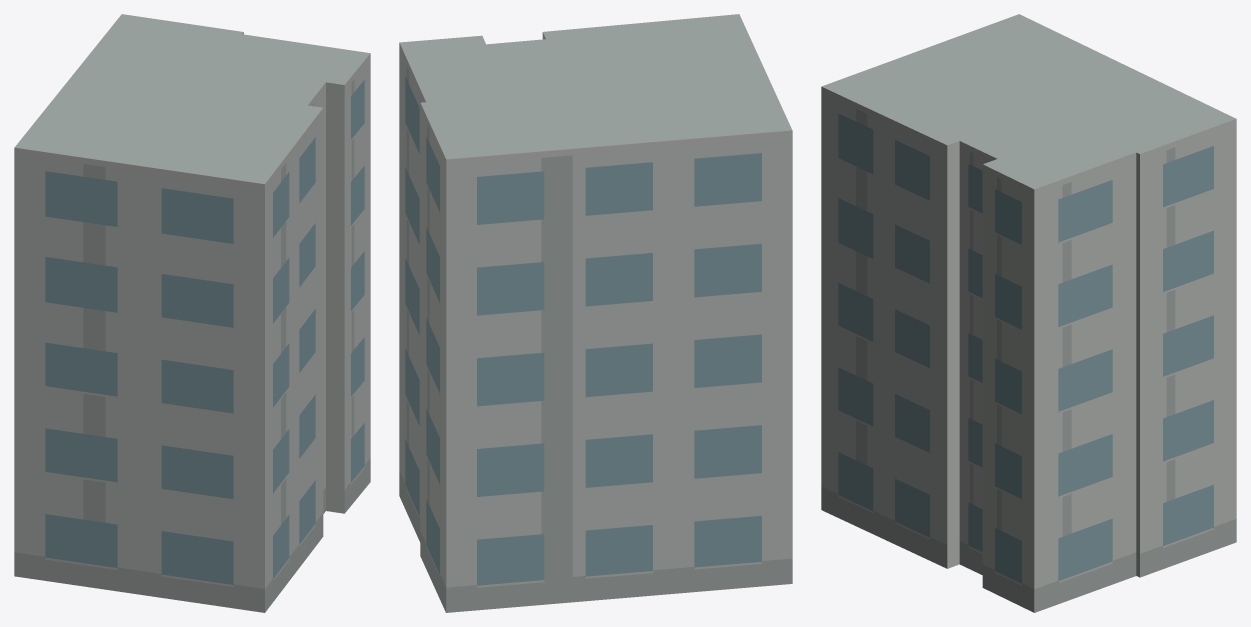
The model's file is survey-upis-32634180.glb.
3 views of the same model, side by side, from view 1: azimuth 30°, elevation 25°; view 2: azimuth 150°, elevation 25°; view 3: azimuth 270°, elevation 25° (orthographic). The views are drawn at different scales.
Visible parts, largest first — view 1: survey-upis-32634180.tmp; view 2: survey-upis-32634180.tmp; view 3: survey-upis-32634180.tmp.
Part boxes in pixels (bbox=[...]): survey-upis-32634180.tmp: bbox=[14, 14, 370, 612]; survey-upis-32634180.tmp: bbox=[399, 14, 792, 612]; survey-upis-32634180.tmp: bbox=[821, 14, 1236, 612].
Size of the model in its own units: 15.29 by 17.2 by 15.29.
